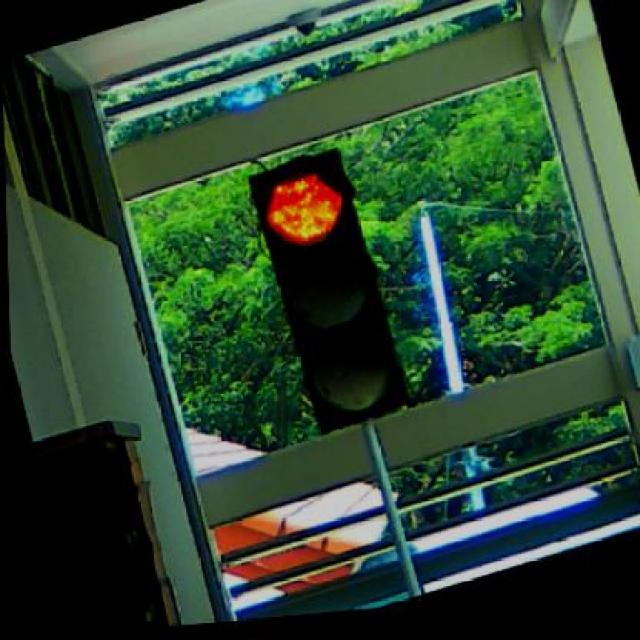red_light: (242, 143, 410, 443)
